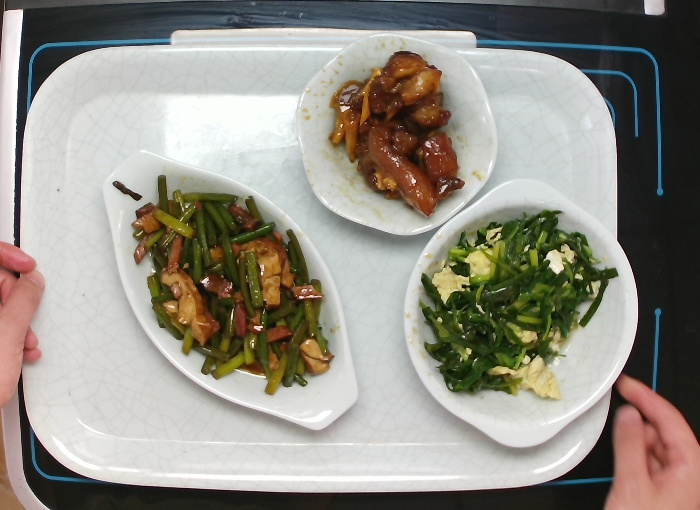JYsf-Shuang_Er_Wan: (397, 174, 646, 459)
JYsf-Yu_Pan: (96, 145, 362, 438)
WCQzf-Hua_Duo_Wan: (293, 27, 499, 237)
